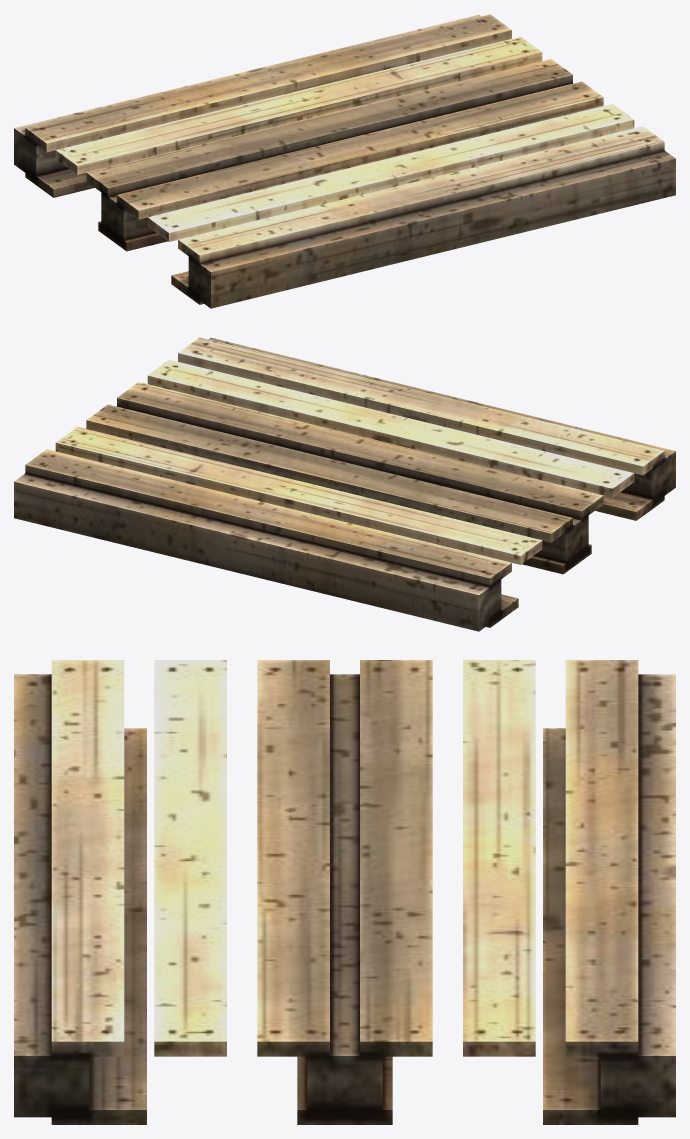
Rendered from palete.glb.
The picture shows the model from 3 angles, top to bottom: view 1: azimuth 30°, elevation 25°; view 2: azimuth 150°, elevation 25°; view 3: azimuth 270°, elevation 25°; orthographic projection. The views are drawn at different scales.
Visible parts, largest first — view 1: palete; view 2: palete; view 3: palete.
Boxes of the visible parts, x1,y1,x2,y2 form: palete: (14,14,675,308); palete: (14,337,675,631); palete: (14,660,675,1124).
Bounding box in the file's own units: 1.2 × 0.122 × 0.88.
Materials: 1 (1 with a texture image).
